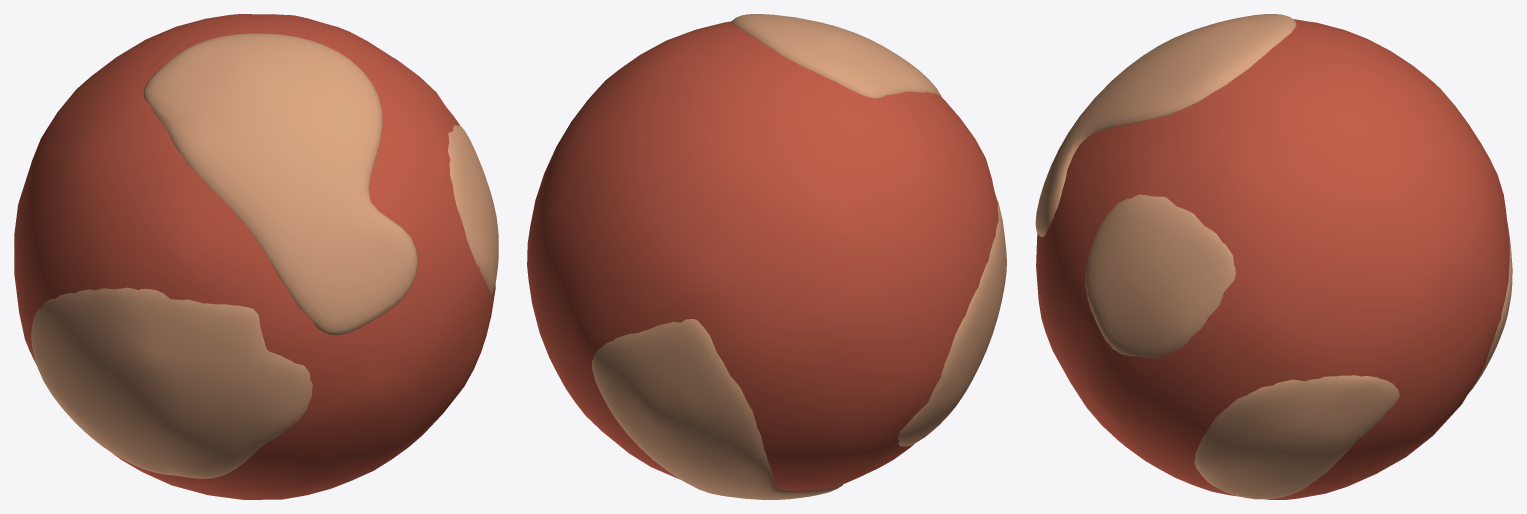
Rendered from Mars 2.glb.
3 views of the same model, side by side, from view 1: azimuth 30°, elevation 25°; view 2: azimuth 150°, elevation 25°; view 3: azimuth 270°, elevation 25° (orthographic). The views are drawn at different scales.
Visible parts, largest first — view 1: low_poly_earth, low_poly_earth.002; view 2: low_poly_earth, low_poly_earth.002; view 3: low_poly_earth, low_poly_earth.002.
Part boxes in pixels (x1,y1,x2,y2): low_poly_earth: (14, 14, 495, 499); low_poly_earth.002: (31, 33, 498, 478); low_poly_earth: (527, 21, 998, 491); low_poly_earth.002: (592, 14, 1006, 499); low_poly_earth: (1036, 19, 1509, 499); low_poly_earth.002: (1035, 14, 1512, 499).
Size of the model in its own units: 3.25 by 3.3 by 3.25.
